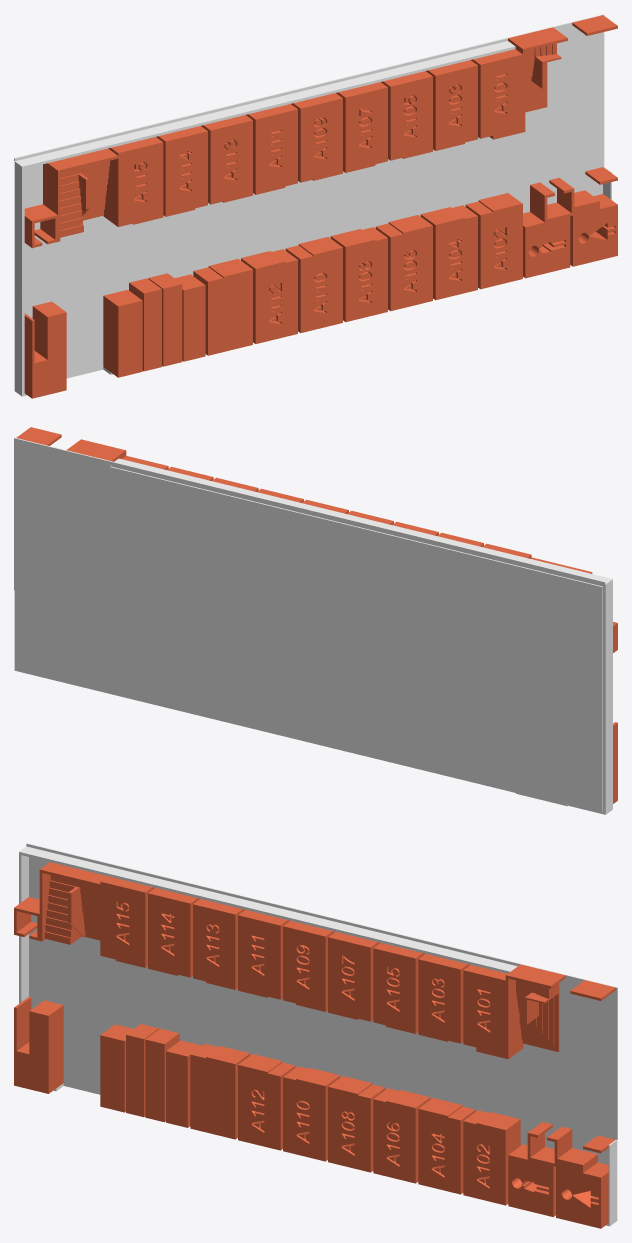
The model's file is Edifico A - Piso 1.obj.
3 renders of one model, top to bottom at view 1: azimuth 30°, elevation 25°; view 2: azimuth 150°, elevation 25°; view 3: azimuth 330°, elevation 25°, orthographic.
Parts seen in each view (by area): view 1: Cuerpo45, Cuerpo44, Cuerpo14, Cuerpo13, Cuerpo9, Cuerpo2, Cuerpo1, Cuerpo20, Cuerpo10, Cuerpo12, Cuerpo6, Cuerpo17 (+19 smaller); view 2: Cuerpo45, Cuerpo44, Cuerpo43, Cuerpo21; view 3: Cuerpo45, Cuerpo44, Cuerpo14, Cuerpo21, Cuerpo1, Cuerpo13, Cuerpo9, Cuerpo10, Cuerpo12, Cuerpo20, Cuerpo2, Cuerpo7 (+20 smaller).
Boxes of the visible parts, box(x1,y1,x2,y2) form: Cuerpo45: box(14, 14, 604, 378); Cuerpo44: box(14, 41, 515, 396); Cuerpo14: box(43, 147, 120, 241); Cuerpo13: box(193, 259, 252, 355); Cuerpo9: box(241, 249, 297, 343); Cuerpo2: box(285, 237, 342, 332); Cuerpo1: box(465, 193, 522, 289); Cuerpo20: box(375, 215, 432, 311); Cuerpo10: box(420, 205, 477, 300); Cuerpo12: box(330, 227, 387, 322); Cuerpo6: box(246, 104, 297, 194); Cuerpo17: box(201, 115, 252, 204); Cuerpo45: box(14, 437, 605, 811); Cuerpo44: box(111, 458, 612, 814); Cuerpo43: box(14, 591, 515, 792); Cuerpo21: box(66, 439, 126, 461); Cuerpo45: box(26, 843, 617, 1164); Cuerpo44: box(19, 846, 517, 1091); Cuerpo14: box(39, 862, 109, 956); Cuerpo21: box(476, 964, 565, 1059); Cuerpo1: box(463, 1110, 520, 1205); Cuerpo13: box(190, 1043, 250, 1139); Cuerpo9: box(238, 1054, 295, 1150); Cuerpo10: box(418, 1098, 475, 1194); Cuerpo12: box(328, 1076, 385, 1172); Cuerpo20: box(373, 1088, 430, 1183); Cuerpo2: box(283, 1066, 340, 1161); Cuerpo7: box(418, 954, 470, 1043).
Bounding box in the file's own units: 45.9 × 17.3 × 2.1.
